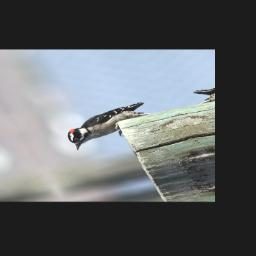Woodpecker: (55, 101, 163, 151)
